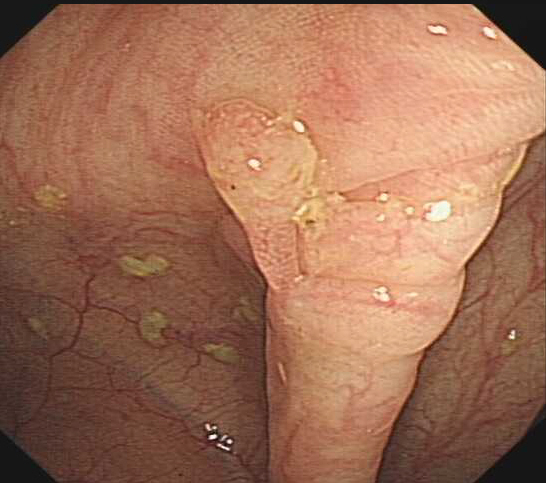adenoma: (196, 94, 326, 295)
